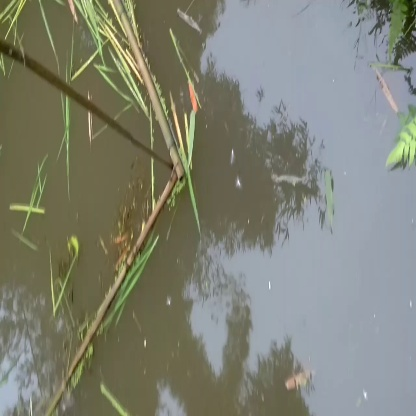branch: (106, 2, 197, 180)
